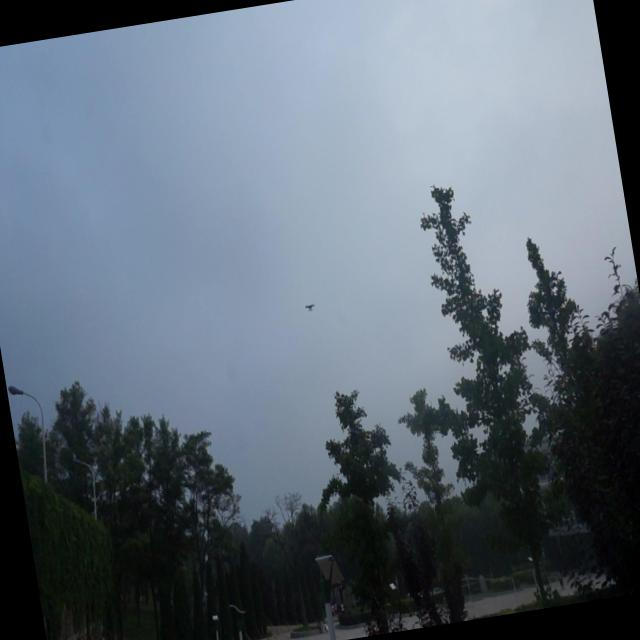drone: (302, 300, 318, 314)
